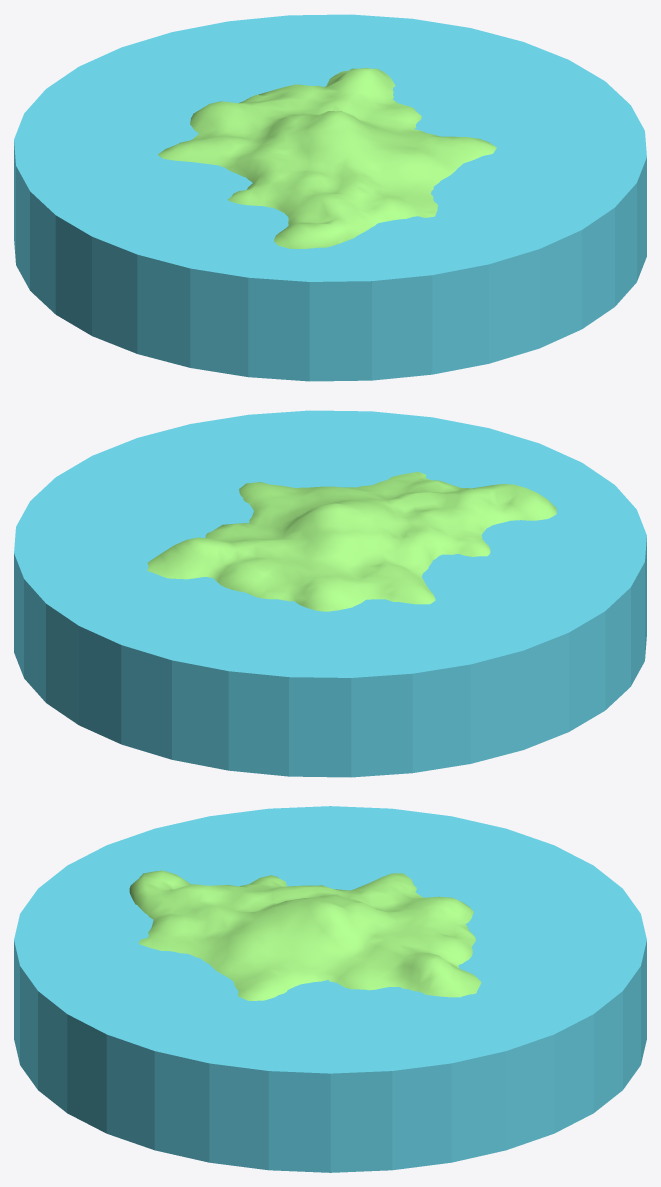
Rendered from Island.fbx.
The picture shows the model from 3 angles, top to bottom: view 1: azimuth 30°, elevation 25°; view 2: azimuth 150°, elevation 25°; view 3: azimuth 270°, elevation 25°; orthographic projection.
Parts seen in each view (by area): view 1: 円柱, 平面; view 2: 円柱, 平面; view 3: 円柱, 平面.
Part boxes in pixels (left/top/right/bottom): 円柱: left=14, top=14, right=646, bottom=381; 平面: left=158, top=68, right=496, bottom=248; 円柱: left=14, top=410, right=646, bottom=777; 平面: left=147, top=472, right=556, bottom=611; 円柱: left=14, top=806, right=646, bottom=1172; 平面: left=129, top=870, right=481, bottom=1000.
Size of the model in its own units: 85.13 by 20.08 by 85.13.
